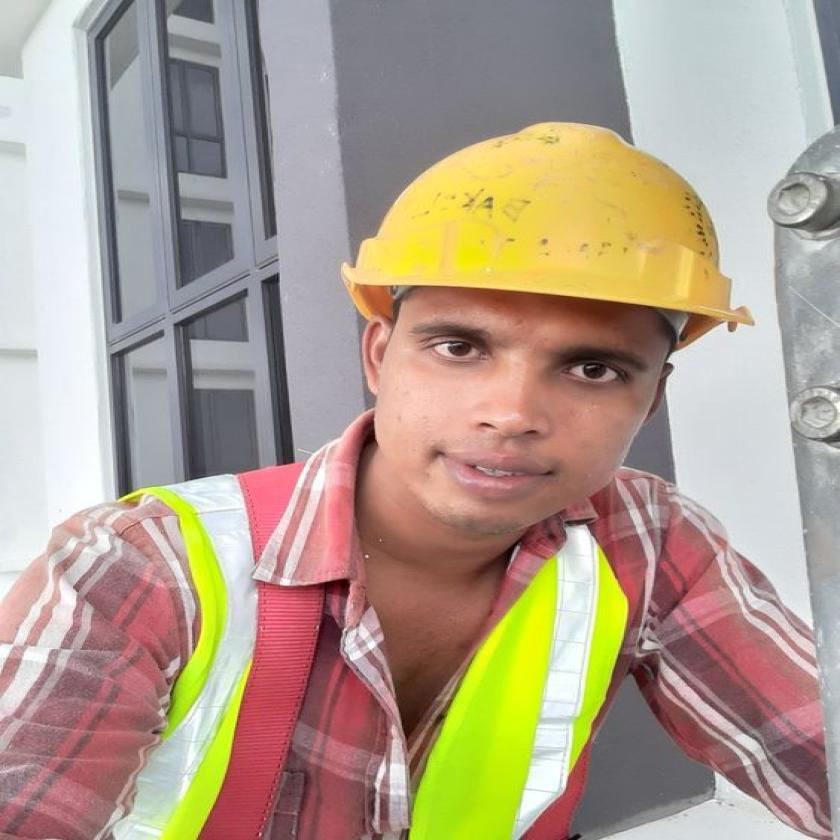Con_casco: (331, 116, 750, 543)
